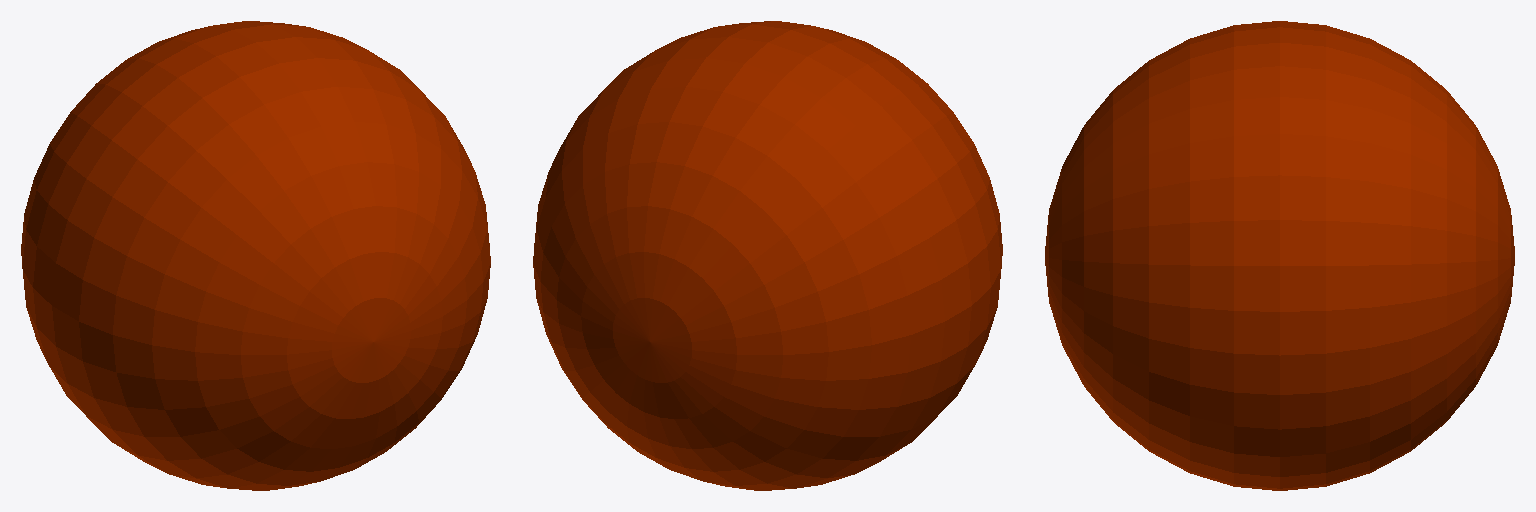
Rendered from WheelBL_001.OBJ.
The picture shows the model from 3 angles: view 1: azimuth 30°, elevation 25°; view 2: azimuth 150°, elevation 25°; view 3: azimuth 270°, elevation 25°; orthographic projection.
Visible parts, largest first — view 1: WheelBL_001_Sphere.011; view 2: WheelBL_001_Sphere.011; view 3: WheelBL_001_Sphere.011.
Boxes of the visible parts, <box> form: WheelBL_001_Sphere.011: <box>21,21,490,490</box>; WheelBL_001_Sphere.011: <box>533,21,1002,490</box>; WheelBL_001_Sphere.011: <box>1045,21,1514,490</box>.
Size of the model in its own units: 0.9105 by 0.9105 by 0.9105.